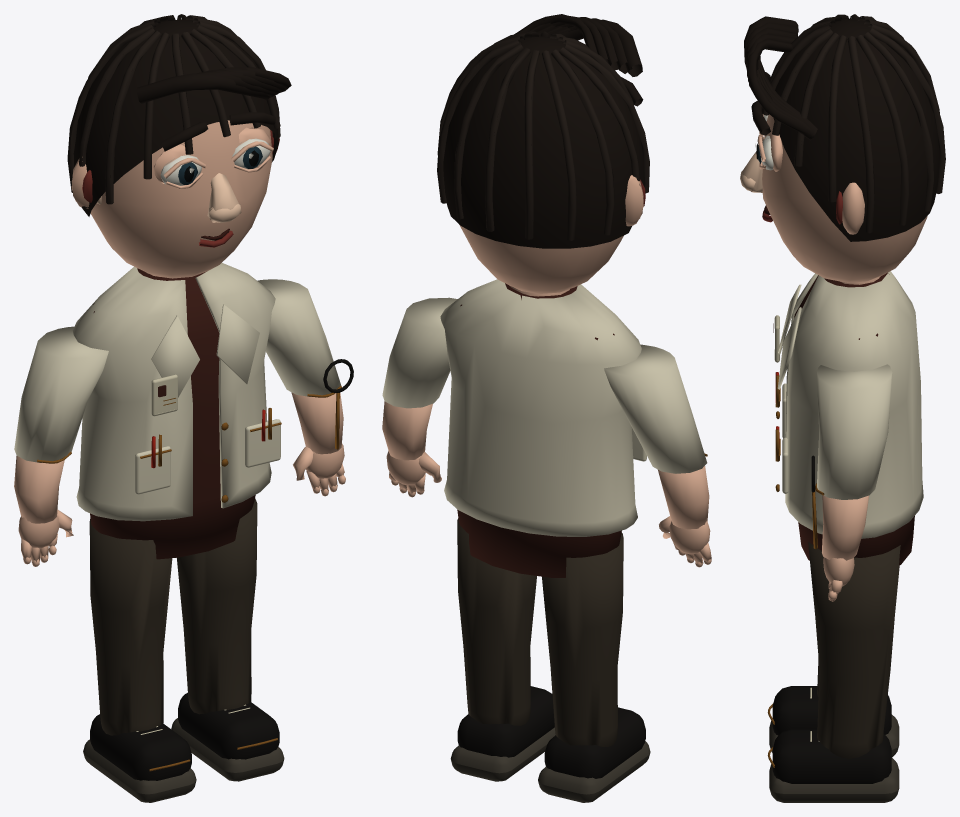
Rendered from doctor-36.glb.
3 views of the same model, side by side, from view 1: azimuth 30°, elevation 25°; view 2: azimuth 150°, elevation 25°; view 3: azimuth 270°, elevation 25° (orthographic).
Visible parts, largest first — view 1: Body, Head, LegL, LegR, ArmL, ArmR; view 2: Body, Head, LegL, LegR, ArmL, ArmR; view 3: Head, Body, LegR, ArmR, LegL.
Part boxes in pixels (x1,y1,x2,y2): Body: (72,263,353,559); Head: (67,14,291,278); LegL: (83,518,196,802); LegR: (171,498,284,781); ArmL: (14,326,108,566); ArmR: (257,279,345,496); Body: (440,279,646,577); Head: (437,14,649,296); LegL: (538,532,650,802); LegR: (450,518,555,781); ArmL: (604,344,711,567); ArmR: (382,297,457,497); Head: (740,14,945,284); Body: (773,271,923,565); LegR: (767,542,900,802); ArmR: (815,364,892,601); LegL: (767,657,899,757).
Size of the model in its own units: 0.6579 by 1.43 by 0.358.
